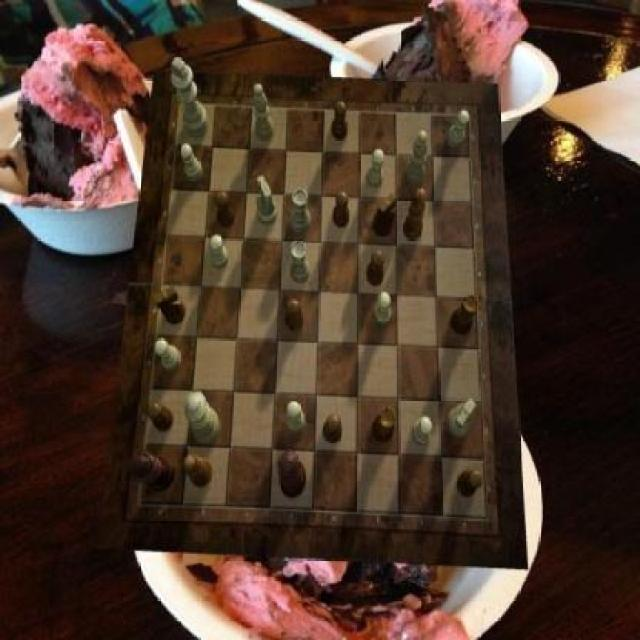bishop: (403, 189, 426, 242), (184, 456, 213, 490)
black-bishop: (131, 451, 177, 492)
black-king: (154, 286, 186, 325), (372, 192, 396, 238)
black-knight: (148, 402, 175, 432), (457, 469, 483, 497), (216, 192, 236, 228), (330, 102, 348, 142), (366, 250, 384, 286), (334, 191, 351, 228), (286, 298, 304, 332), (323, 414, 343, 443)
black-pawn: (277, 451, 307, 498)
black-queen: (451, 294, 478, 335), (372, 408, 396, 444)
black-rook: (404, 131, 428, 185), (253, 85, 274, 142)
white-bishop: (172, 57, 210, 138)
white-king: (255, 176, 278, 227), (449, 398, 477, 438)
white-knight: (446, 111, 469, 149), (156, 340, 182, 372), (180, 145, 202, 182), (366, 149, 386, 188), (286, 401, 306, 434), (210, 235, 228, 270), (374, 291, 391, 325), (412, 417, 432, 445)
white-pawn: (185, 390, 220, 444)
white-queen: (291, 189, 311, 235), (291, 240, 311, 284)
